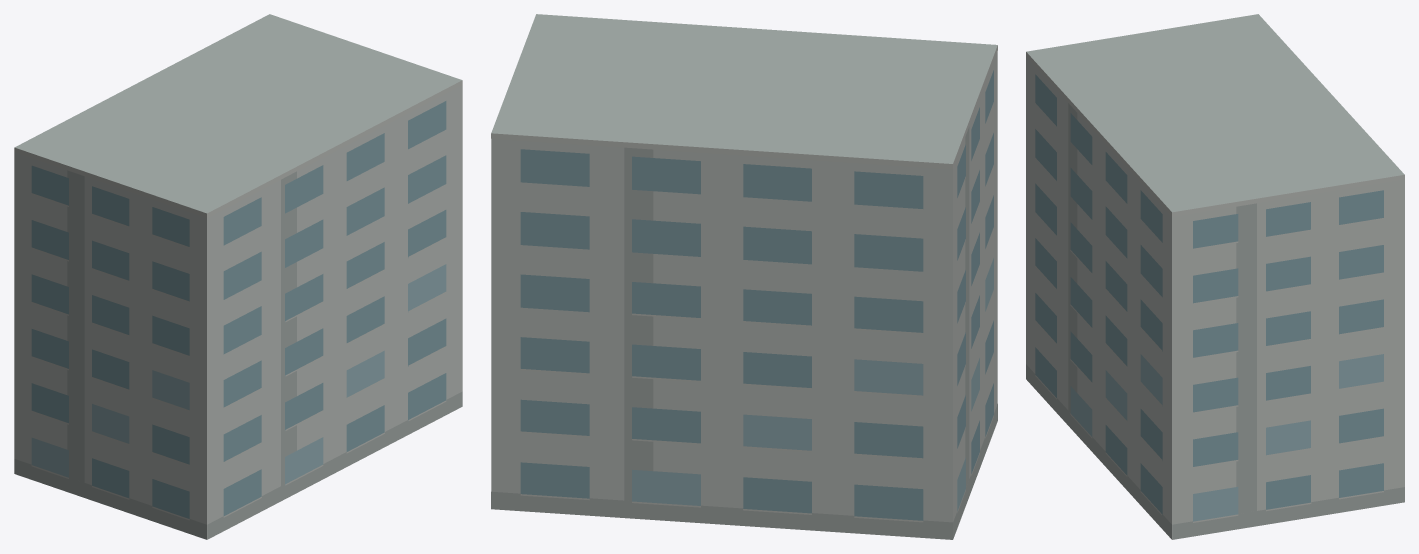
Rendered from survey-upis-32843153.glb.
3 views of the same model, side by side, from view 1: azimuth 30°, elevation 25°; view 2: azimuth 150°, elevation 25°; view 3: azimuth 270°, elevation 25° (orthographic). The views are drawn at different scales.
Parts seen in each view (by area): view 1: survey-upis-32843153.tmp; view 2: survey-upis-32843153.tmp; view 3: survey-upis-32843153.tmp.
Part boxes in pixels (box(x1,y1,x2,y2)): survey-upis-32843153.tmp: box(14, 14, 462, 539); survey-upis-32843153.tmp: box(491, 14, 997, 539); survey-upis-32843153.tmp: box(1026, 14, 1404, 539).
Bounding box in the file's own units: 21.95 × 16.9 × 17.72.
